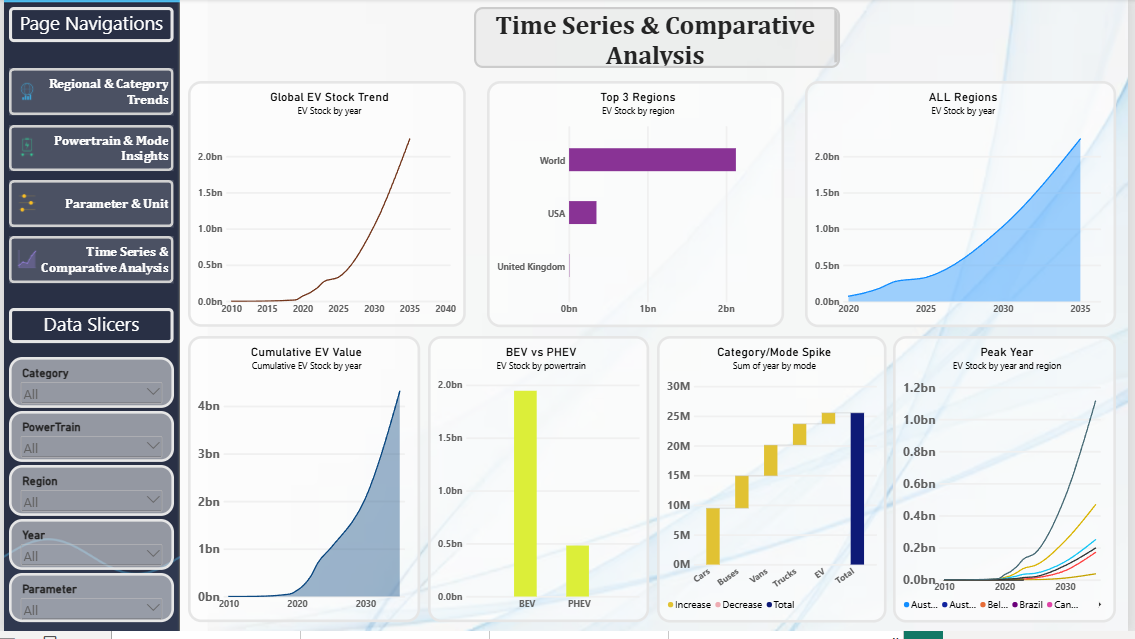

This screenshot's page, from the dashboard's own definition file:
{"tool":"powerbi","page":{"name":"Time Series & Comparative Analysis","canvas":[2560,1440],"ordinal":3},"visuals":[{"type":"lineChart","title":"Global EV Stock Trend","fields":{"Category":["IEA Global EV Data 2024.year"],"Y":["IEA Global EV Data 2024.EV Stock"]},"box":[419.2,186.8,632.5,560],"z":0},{"type":"textbox","box":[1070.9,18.2,833.9,139],"z":1000},{"type":"barChart","title":" Top 3 Regions","fields":{"Category":["IEA Global EV Data 2024.region"],"Y":["IEA Global EV Data 2024.EV Stock"]},"box":[1100.5,186.8,676.7,560.5],"z":2000},{"type":"areaChart","title":"ALL Regions","fields":{"Category":["IEA Global EV Data 2024.year"],"Y":["IEA Global EV Data 2024.EV Stock"]},"box":[1825.1,186.8,708.6,560.5],"z":3000},{"type":"areaChart","title":"Cumulative EV Value","fields":{"Category":["IEA Global EV Data 2024.year"],"Y":["IEA Global EV Data 2024.Cumulative EV Stock"]},"box":[419.2,767.8,528.6,651.6],"z":4000},{"type":"clusteredColumnChart","title":"BEV vs PHEV","fields":{"Category":["IEA Global EV Data 2024.powertrain"],"Y":["IEA Global EV Data 2024.EV Stock"]},"box":[966.1,767.8,503.5,651.6],"z":5000},{"type":"lineChart","title":"Peak Year","fields":{"Category":["IEA Global EV Data 2024.year"],"Series":["IEA Global EV Data 2024.region"],"Y":["IEA Global EV Data 2024.EV Stock"]},"box":[2025,767.5,507.5,652.5],"z":6000},{"type":"waterfallChart","title":"Category/Mode Spike","fields":{"Category":["IEA Global EV Data 2024.mode"],"Y":["Sum(IEA Global EV Data 2024.year)"]},"box":[1487.5,767.5,522.5,652.5],"z":7000},{"type":"textbox","box":[12.5,17.5,375,80],"z":8000},{"type":"actionButton","box":[11.4,157.2,375,107.5],"z":9000},{"type":"actionButton","box":[12.5,287.5,375,105],"z":10000},{"type":"actionButton","box":[12.5,412.5,375,107.5],"z":11000},{"type":"actionButton","box":[12.5,540,375,107.5],"z":12000},{"type":"textbox","box":[11.4,704.1,375,80],"z":13000},{"type":"slicer","fields":{"Values":["IEA Global EV Data 2024.category"]},"box":[11.4,815.7,375.9,116.2],"z":14000},{"type":"slicer","fields":{"Values":["IEA Global EV Data 2024.powertrain"]},"box":[11.4,938.7,375.9,116.2],"z":15000},{"type":"slicer","fields":{"Values":["IEA Global EV Data 2024.region"]},"box":[11.4,1061.8,375.9,116.2],"z":16000},{"type":"slicer","fields":{"Values":["IEA Global EV Data 2024.year"]},"box":[11.4,1184.8,375.9,116.2],"z":17000},{"type":"slicer","fields":{"Values":["IEA Global EV Data 2024.parameter"]},"box":[11.4,1307.8,375.9,111.6],"z":18000}]}

Visuals, with their boxes on the page's 2560x1440 design canvas (x1, y1, x2, y2). These are canvas units, not pixel positions in the 1135x639 screenshot, which may show the page scaled, cropped or inside an application window:
"Global EV Stock Trend" lineChart: detection(419, 187, 1052, 747)
textbox: detection(1071, 18, 1905, 157)
" Top 3 Regions" barChart: detection(1100, 187, 1777, 747)
"ALL Regions" areaChart: detection(1825, 187, 2534, 747)
"Cumulative EV Value" areaChart: detection(419, 768, 948, 1419)
"BEV vs PHEV" clusteredColumnChart: detection(966, 768, 1470, 1419)
"Peak Year" lineChart: detection(2025, 768, 2532, 1420)
"Category/Mode Spike" waterfallChart: detection(1488, 768, 2010, 1420)
textbox: detection(12, 18, 388, 98)
actionButton: detection(11, 157, 386, 265)
actionButton: detection(12, 288, 388, 392)
actionButton: detection(12, 412, 388, 520)
actionButton: detection(12, 540, 388, 648)
textbox: detection(11, 704, 386, 784)
slicer - IEA Global EV Data 2024.category: detection(11, 816, 387, 932)
slicer - IEA Global EV Data 2024.powertrain: detection(11, 939, 387, 1055)
slicer - IEA Global EV Data 2024.region: detection(11, 1062, 387, 1178)
slicer - IEA Global EV Data 2024.year: detection(11, 1185, 387, 1301)
slicer - IEA Global EV Data 2024.parameter: detection(11, 1308, 387, 1419)
